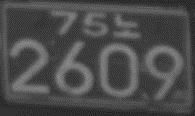0: (97, 41, 140, 98)
2: (8, 37, 51, 96)
5: (81, 11, 110, 38)
6: (53, 38, 94, 97)
7: (49, 8, 78, 36)
9: (143, 43, 185, 102)
노: (112, 12, 141, 39)
